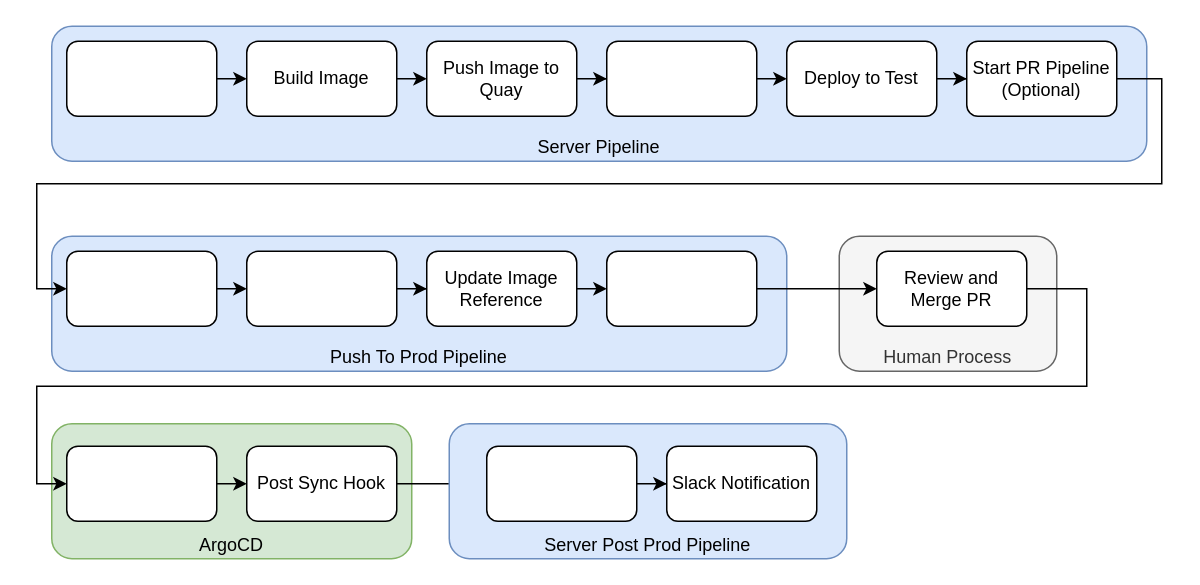
This 1200x585 diagram has some shape labels left out. Each missing label, with the centre of its shape:
Clone & Compile Code: pixel 141 78
Clone Manifests Repo: pixel 141 288
Create Branch: pixel 321 288
Create PR: pixel 681 288
Deploy Prod: pixel 141 483
Deploy to Dev: pixel 681 78
Integration Test: pixel 561 483
